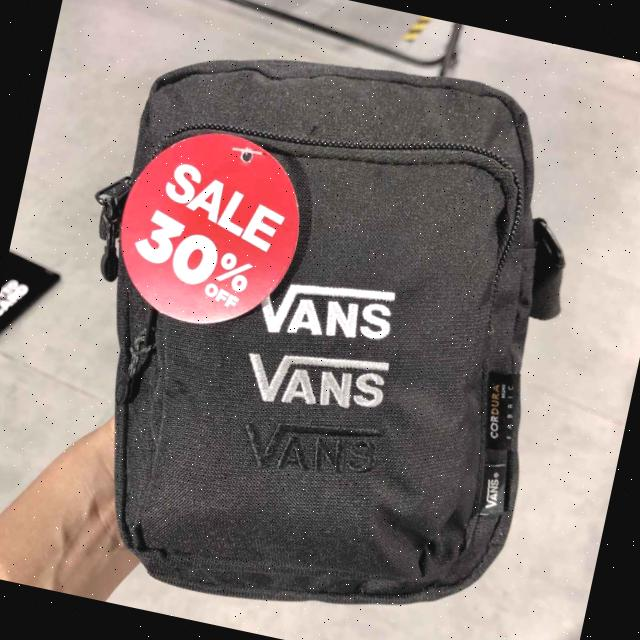handbag: (42, 12, 598, 640)
